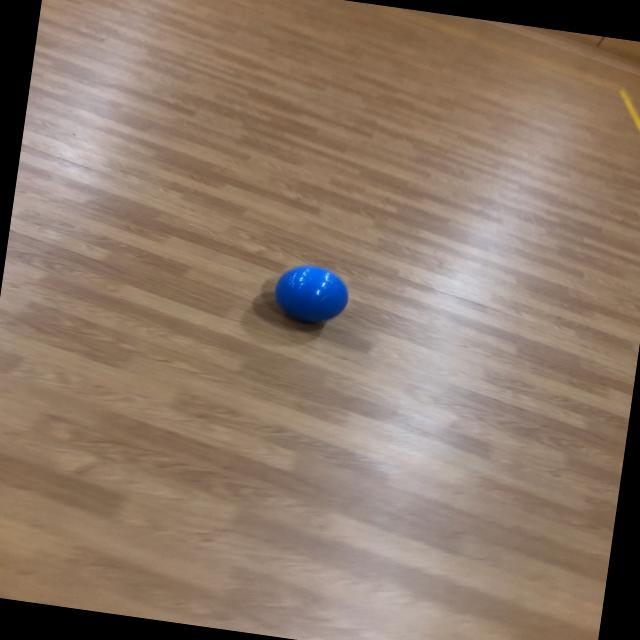blue_ball: (263, 259, 357, 333)
